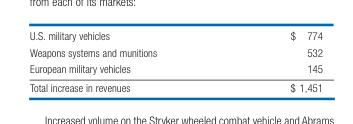table: (29, 29, 322, 93)
table column: (29, 29, 222, 93), (222, 29, 322, 93)
table row: (29, 43, 322, 60), (29, 60, 322, 77), (29, 77, 322, 93), (29, 29, 322, 43)
